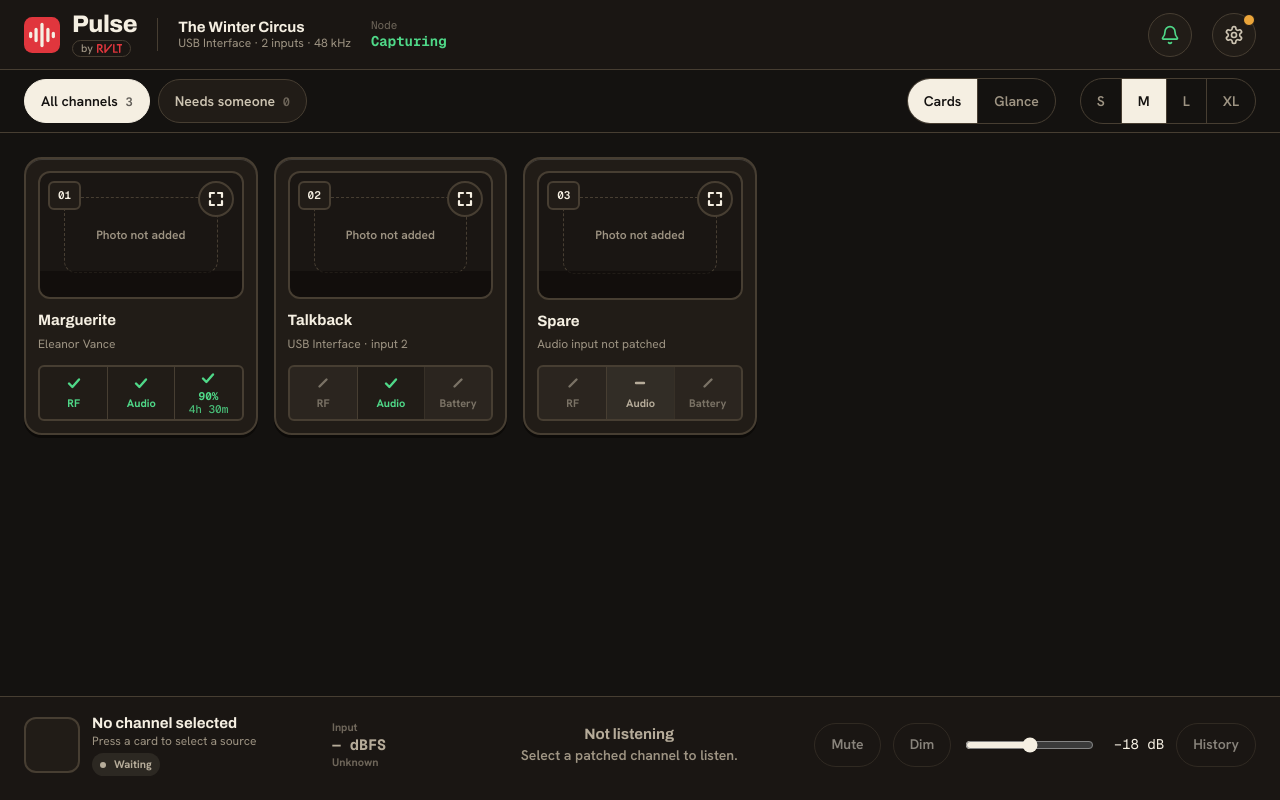
Live channel grid › refuses to listen to a channel that is not patched to an input
expect the button "Mute" is shown: met, box [814,723,881,767]
Click the button named "Select Spare, channel 3" at (640, 296), box [525,159,755,433]
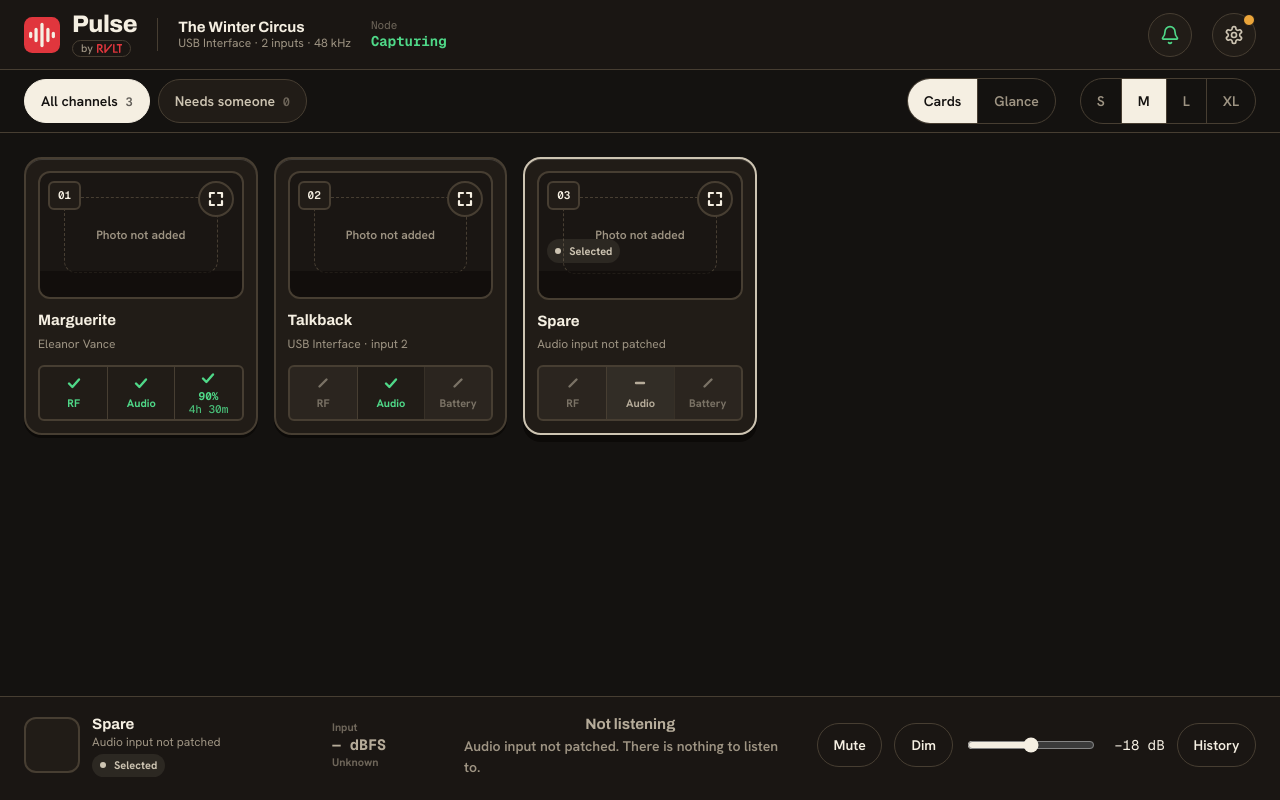
expect the text "Audio input not patched. There is nothing to listen to." is shown: met, box [464,736,796,778]
